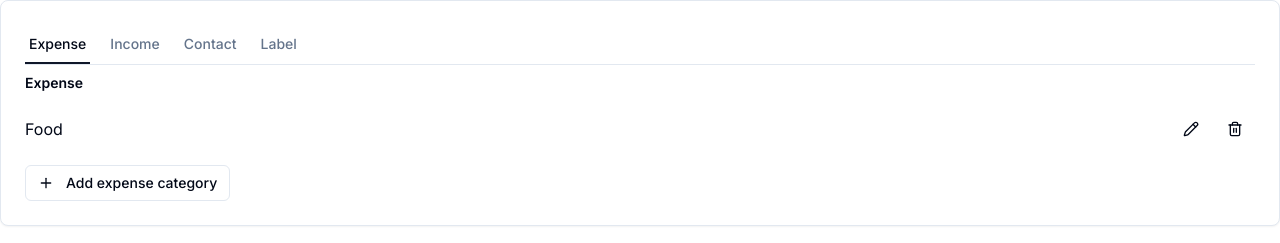
Test: ProfileDictionariesPane › switches to the Income tab and shows the income dictionary
Click the tab "Income": click(135, 45) [106,26,164,64]
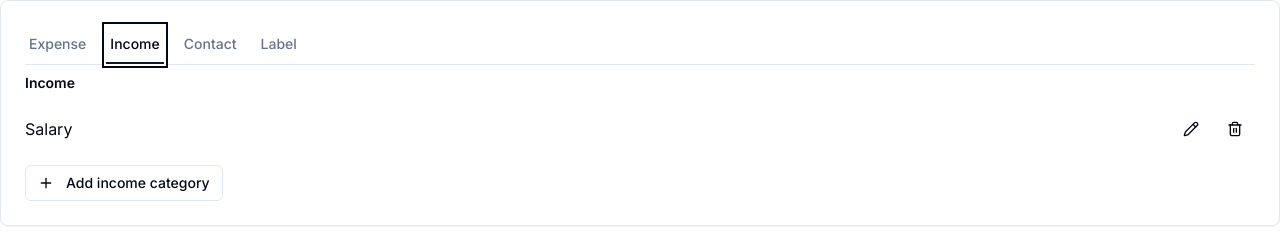
Check: the button "Add income category" is shown, box [25,165,223,201]
Check: the text "Salary" is shown, box [25,117,72,141]
